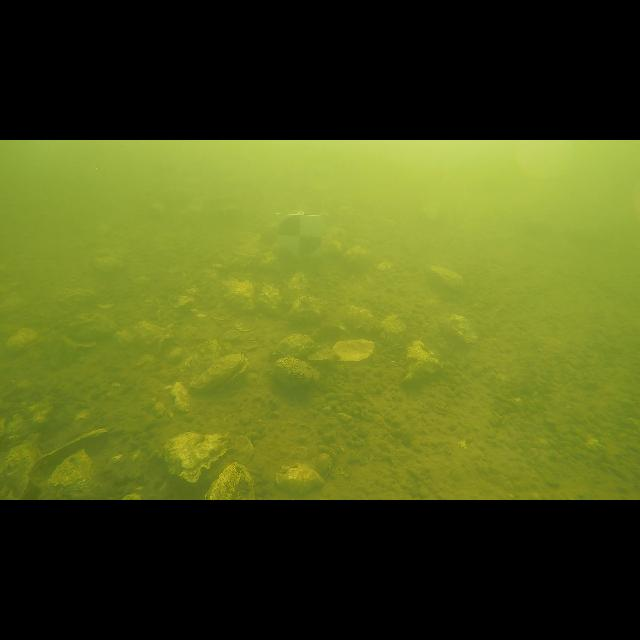Oyster-Closed: (165, 432, 230, 482), (39, 450, 92, 500), (0, 434, 41, 496), (186, 352, 246, 394), (178, 337, 226, 379), (205, 462, 255, 500), (118, 321, 174, 354), (404, 340, 441, 381), (272, 356, 320, 386), (276, 464, 324, 494), (68, 312, 116, 342), (428, 266, 464, 295), (274, 334, 316, 358), (289, 296, 322, 325), (345, 306, 381, 332), (224, 279, 254, 310), (445, 315, 478, 342), (380, 314, 406, 348), (285, 272, 310, 301), (230, 435, 254, 465), (259, 285, 281, 315), (6, 329, 36, 349), (136, 355, 154, 365)
Oyster-Open: (332, 339, 375, 361)
